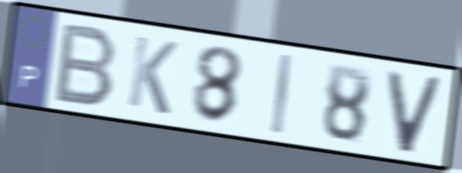8: (320, 62, 374, 146), (191, 43, 244, 127)
B: (50, 20, 120, 109)
I: (269, 51, 294, 138)
K: (124, 32, 181, 118)
V: (385, 68, 446, 157)
